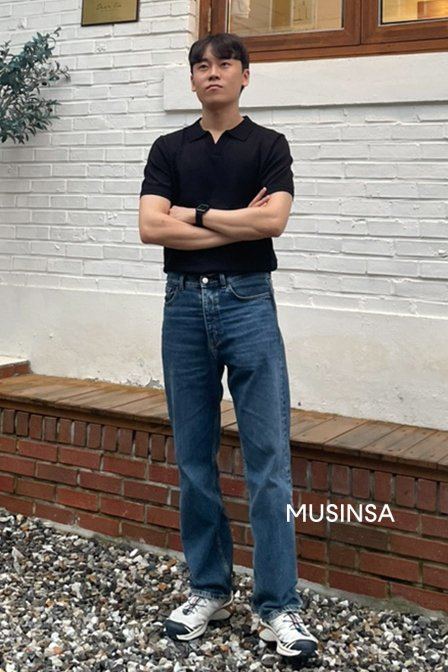Accessories: (192, 197, 218, 228)
Jeans: (154, 262, 311, 620)
Shoes: (164, 580, 329, 663)
T-shirts: (130, 114, 305, 279)
